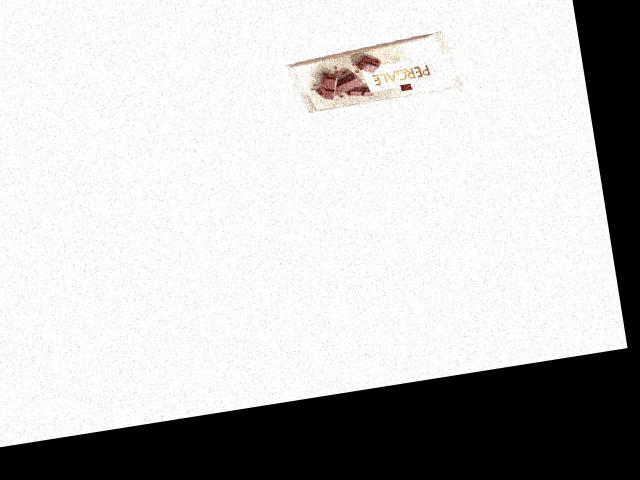chocolate: (280, 30, 465, 115)
